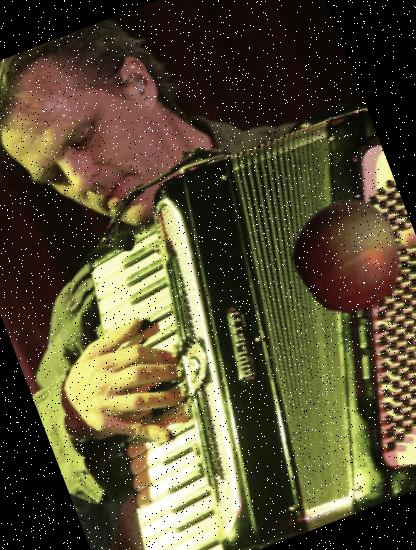Apple: (274, 181, 416, 331)
